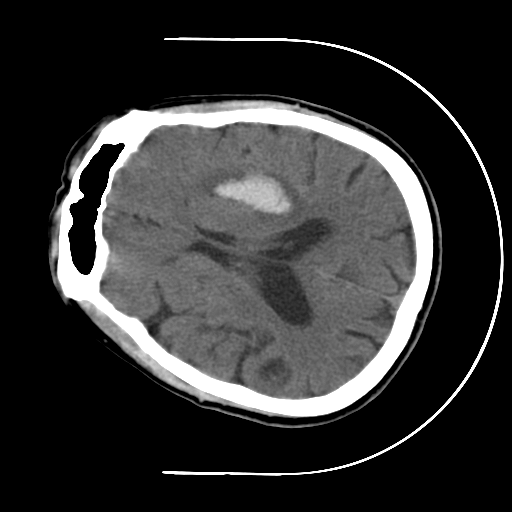a: (194, 159, 311, 229)
